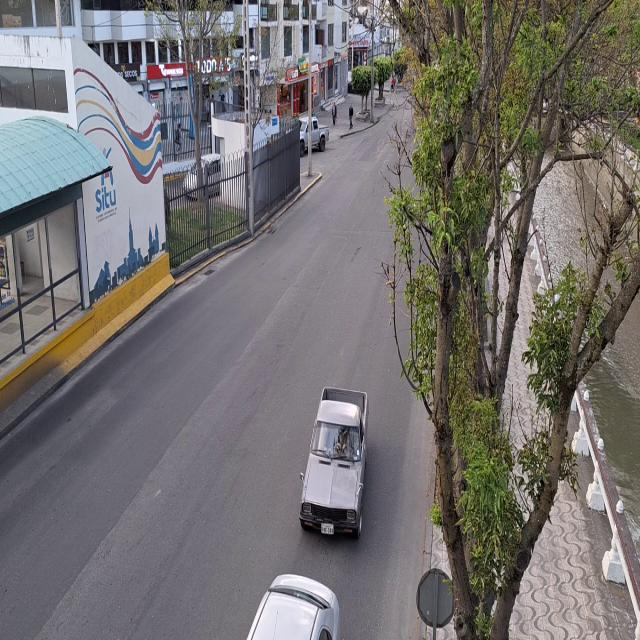CMT: (298, 384, 368, 539)
